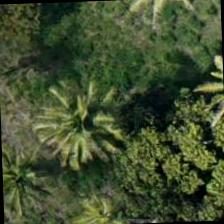Kelapa_Sawit: (36, 74, 129, 166), (1, 135, 59, 223), (64, 171, 158, 223)
